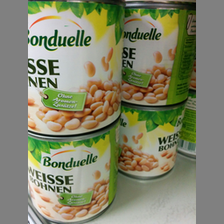beans: (28, 1, 124, 133), (28, 135, 124, 221), (126, 2, 194, 108), (123, 108, 187, 183)
